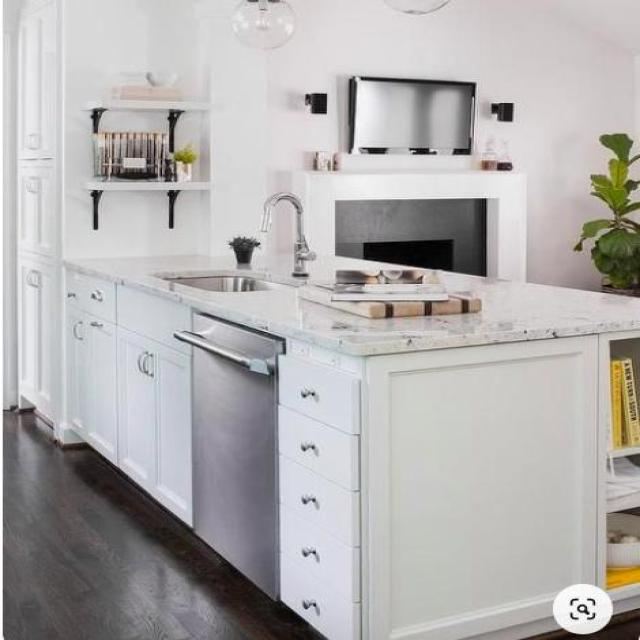dishwasher: (169, 304, 291, 604)
